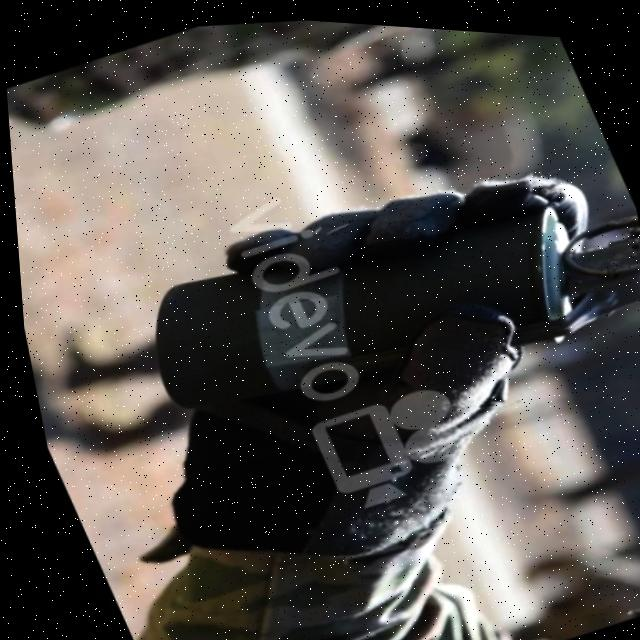grenade: (91, 105, 640, 481)
